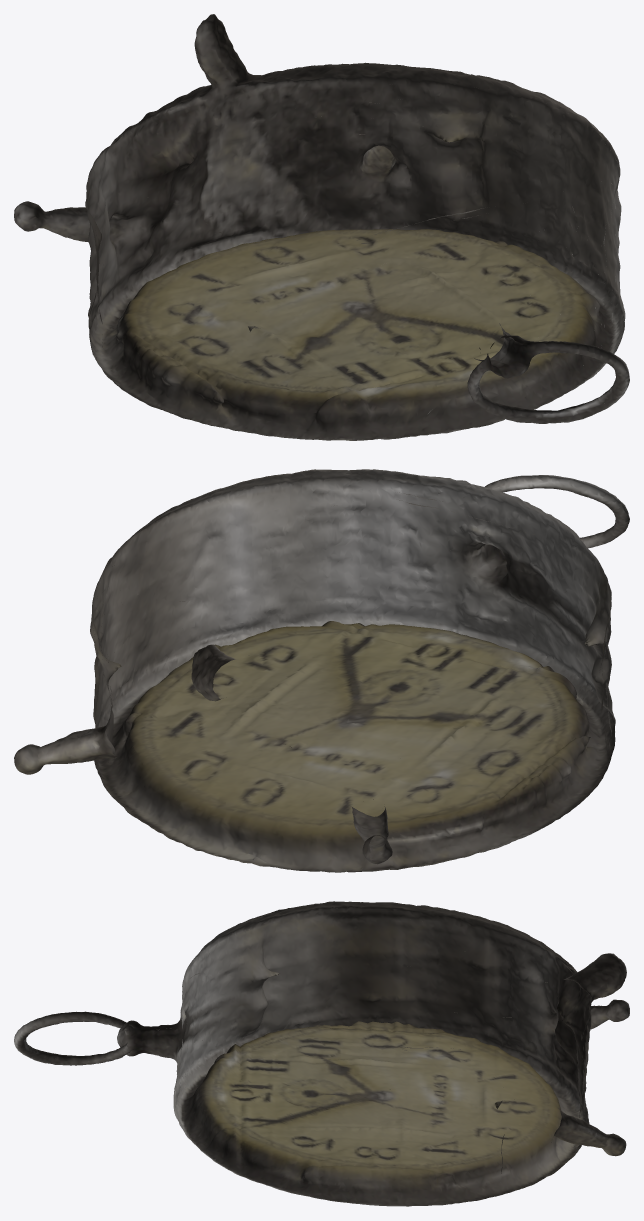
Rendered from alarm.glb.
3 views of the same model, one above another, from view 1: azimuth 30°, elevation 25°; view 2: azimuth 150°, elevation 25°; view 3: azimuth 270°, elevation 25° (orthographic). The views are drawn at different scales.
Size of the model in its own units: 0.6788 by 0.3242 by 1.
